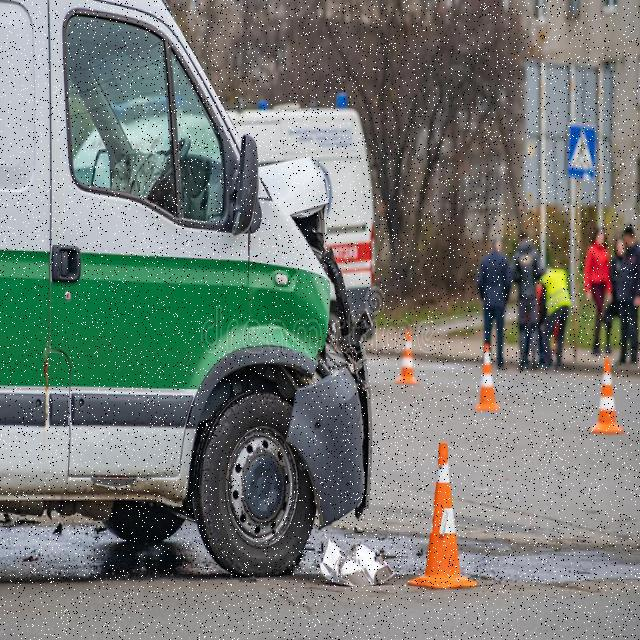front-bumper-dent: (296, 258, 388, 548)
